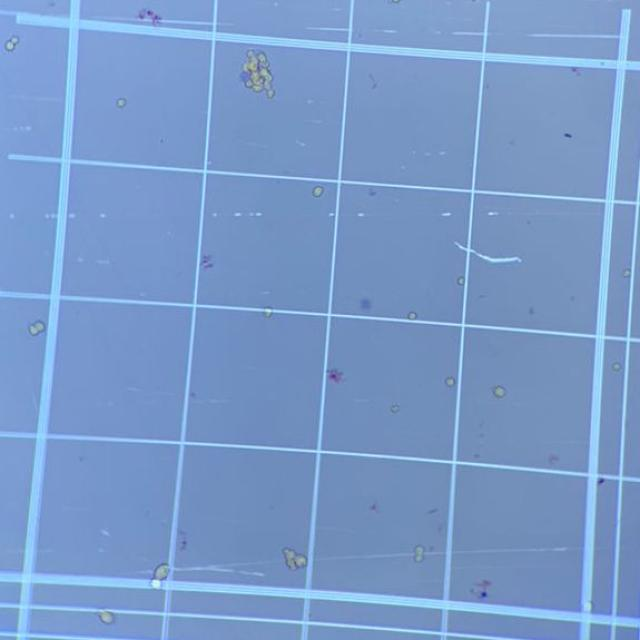Cell: (153, 562, 170, 580), (99, 611, 114, 625), (149, 578, 164, 591), (295, 554, 308, 569), (492, 385, 506, 398), (281, 547, 296, 559), (359, 298, 372, 311), (312, 185, 324, 198), (5, 39, 16, 53), (548, 454, 560, 466), (286, 559, 297, 571), (413, 544, 425, 555), (35, 320, 46, 332), (28, 325, 39, 337), (445, 376, 456, 387), (263, 307, 273, 318), (116, 98, 127, 108), (622, 268, 632, 278), (408, 311, 419, 320), (413, 555, 424, 564), (456, 276, 465, 286), (612, 362, 622, 371), (390, 404, 400, 413), (585, 601, 593, 612), (11, 35, 20, 44)
